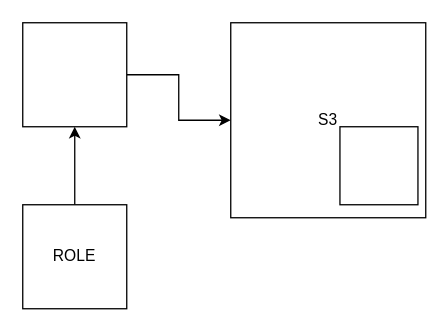
The diagram is 448 pixels wide and 332 high, and some of its shapes have lost their labels. The box of each missing label's shape, as (x1, y1, x2, y2) in pixels:
EC2: (21, 21, 127, 127)
file.txt: (339, 125, 418, 205)
